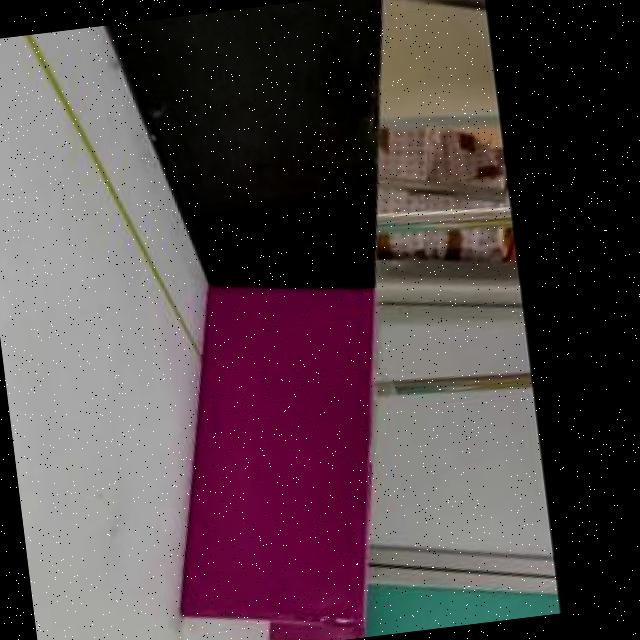xparking: (175, 284, 374, 627), (269, 623, 361, 640)
